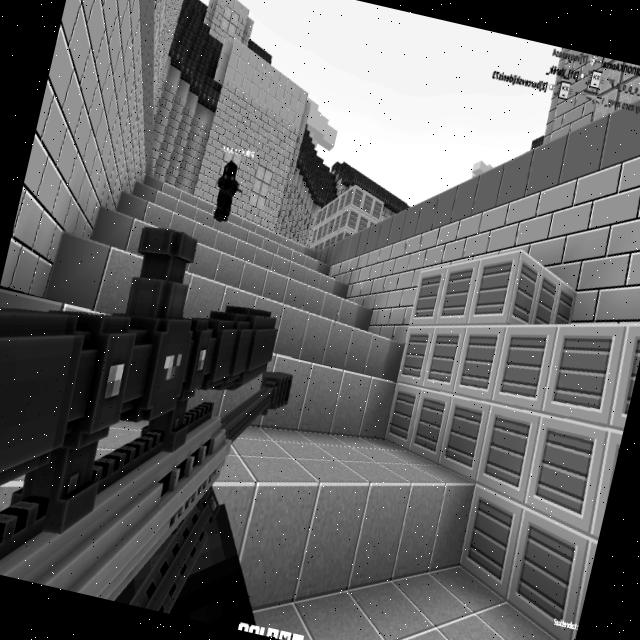Head: (218, 157, 240, 186)
Player: (209, 156, 244, 223)
